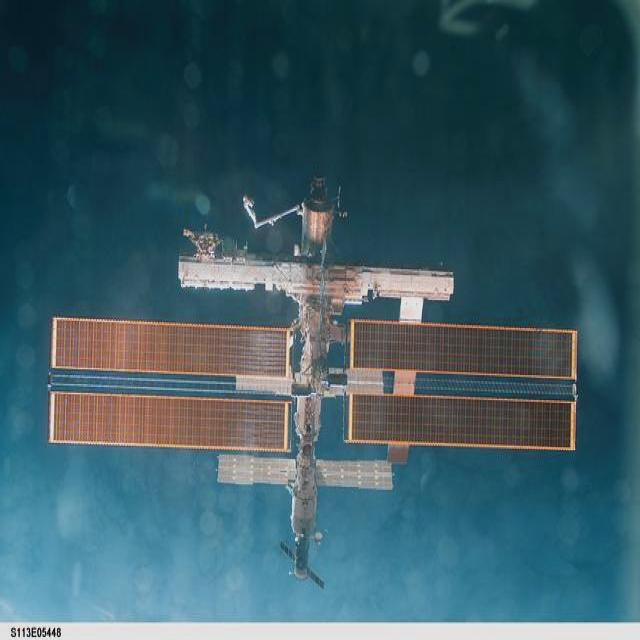satellite: (49, 177, 578, 586)
